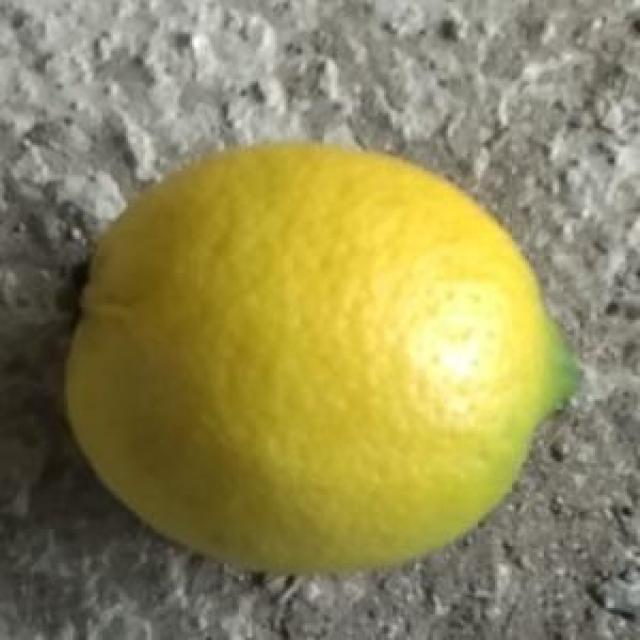lemon: (58, 136, 582, 578)
